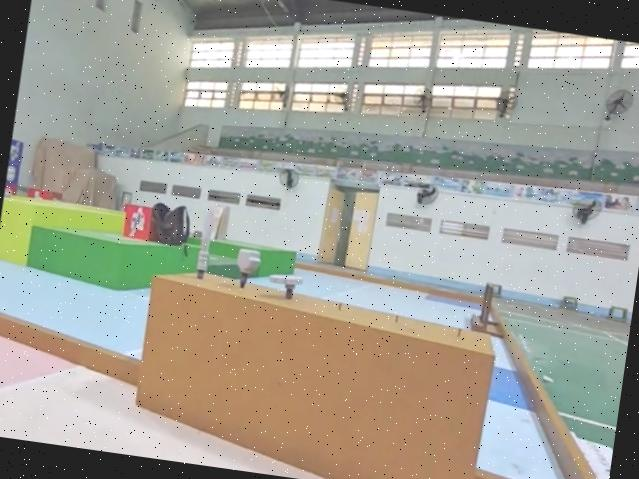Fist: (229, 242, 263, 290)
Hand: (269, 269, 307, 301)
Sph: (191, 200, 220, 280)
